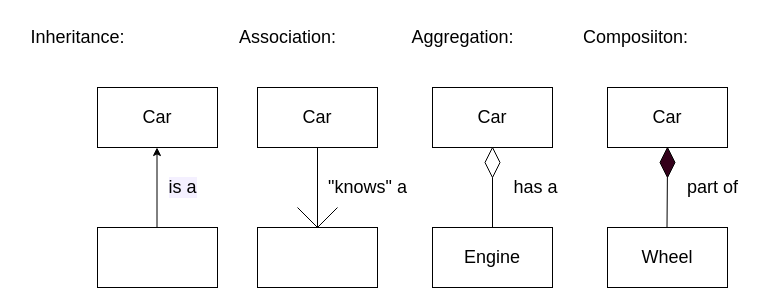
This 764x305 diagram has some shape labels left out. The centre of each missing label's shape, as x and y in pixels:
Driver: (x=317, y=257)
Lamborghini: (x=157, y=257)
